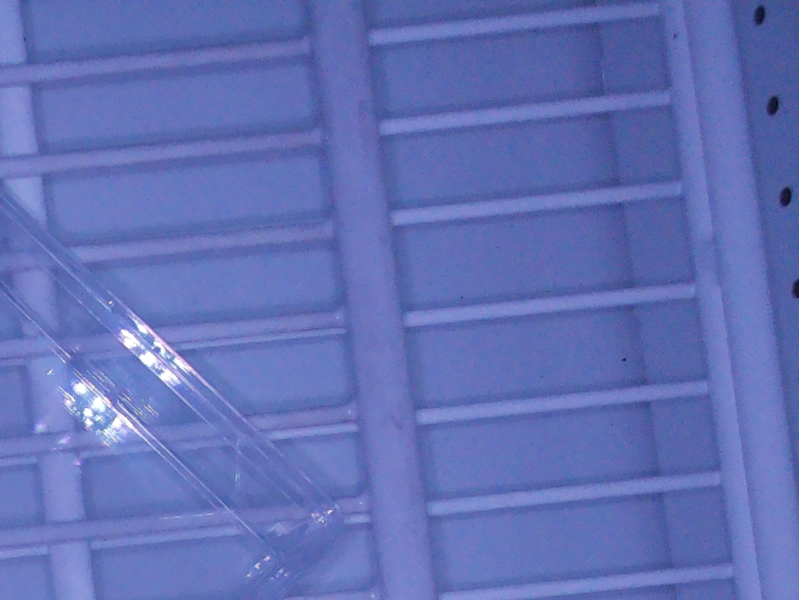plate: (1, 171, 350, 600)
